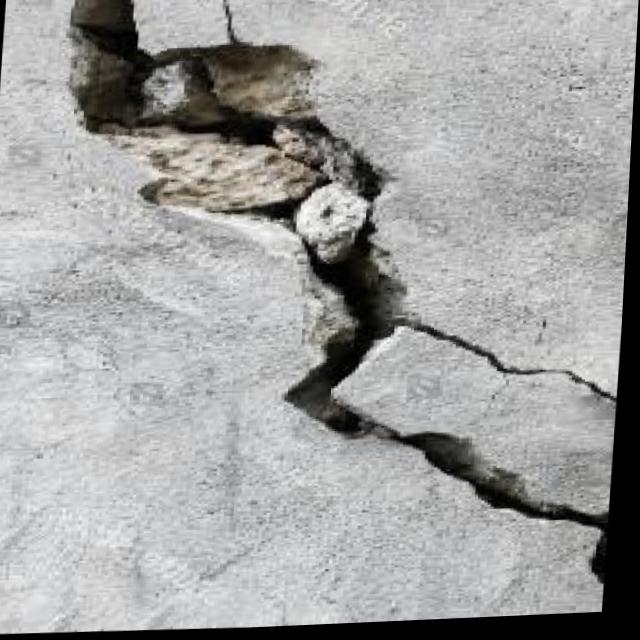Crack: (35, 0, 457, 352), (250, 332, 622, 606)
